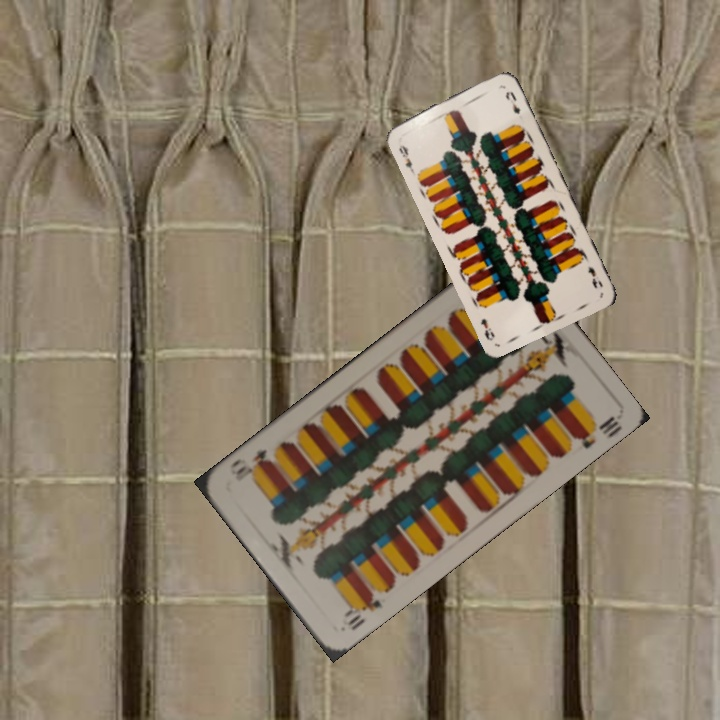E10: (340, 589, 386, 633)
E9: (395, 141, 416, 174), (584, 262, 606, 291)
